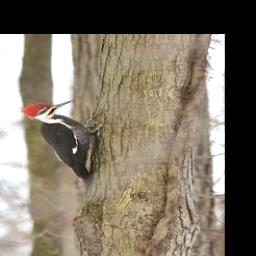Woodpecker: (21, 100, 110, 197)
